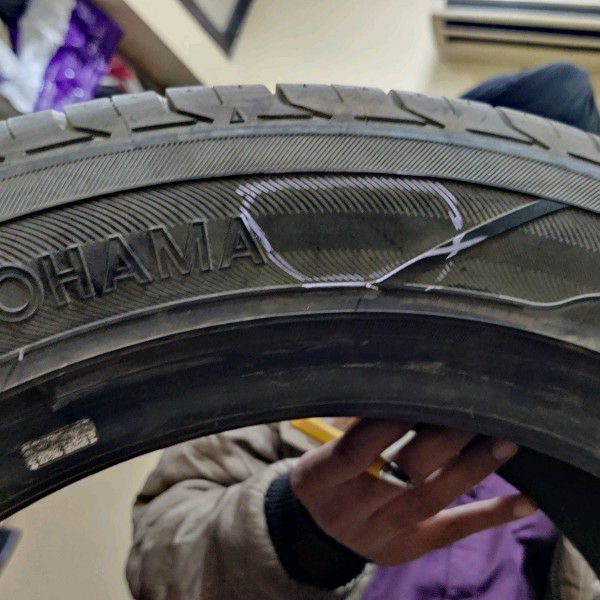CBU: (253, 186, 449, 282)
